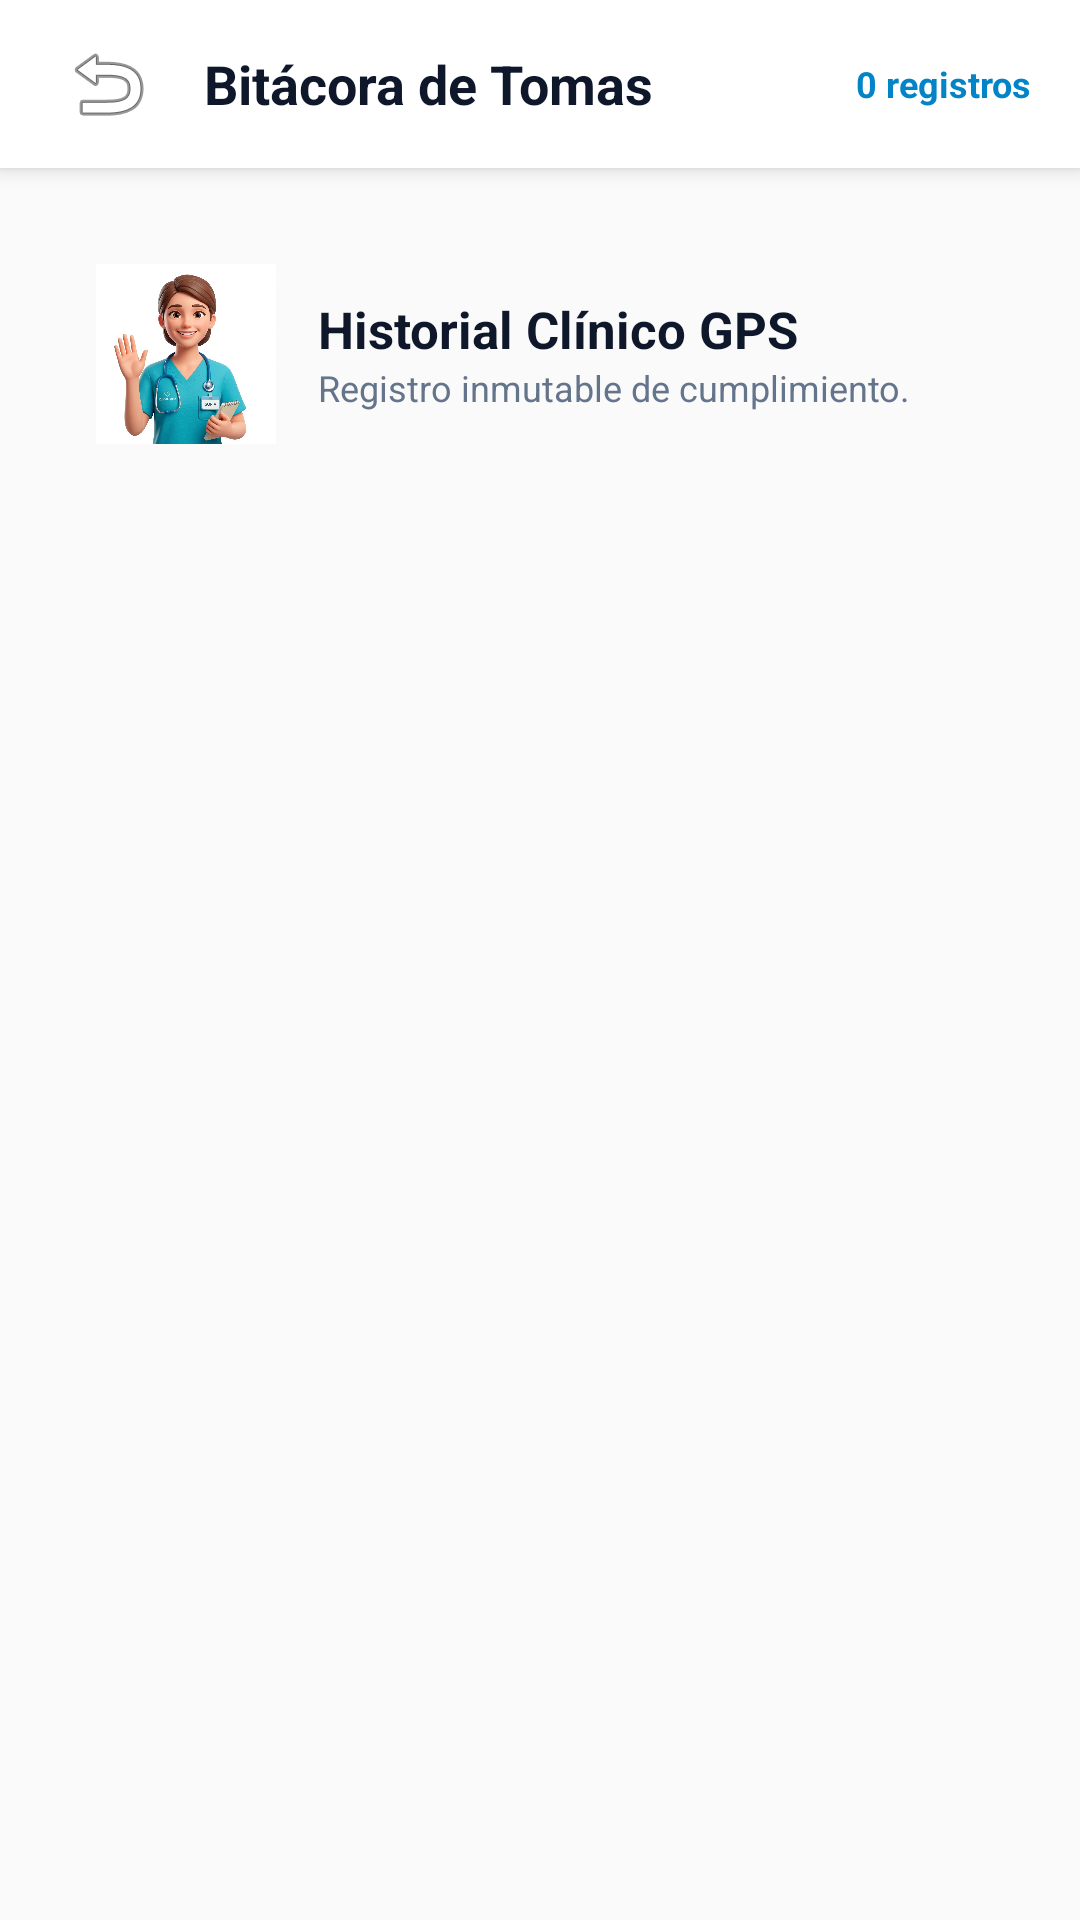

Where to tap for icons on this 1080×1920 app screen, as [x,y]:
nurse: [180,359]
Regresar: [109,84]
